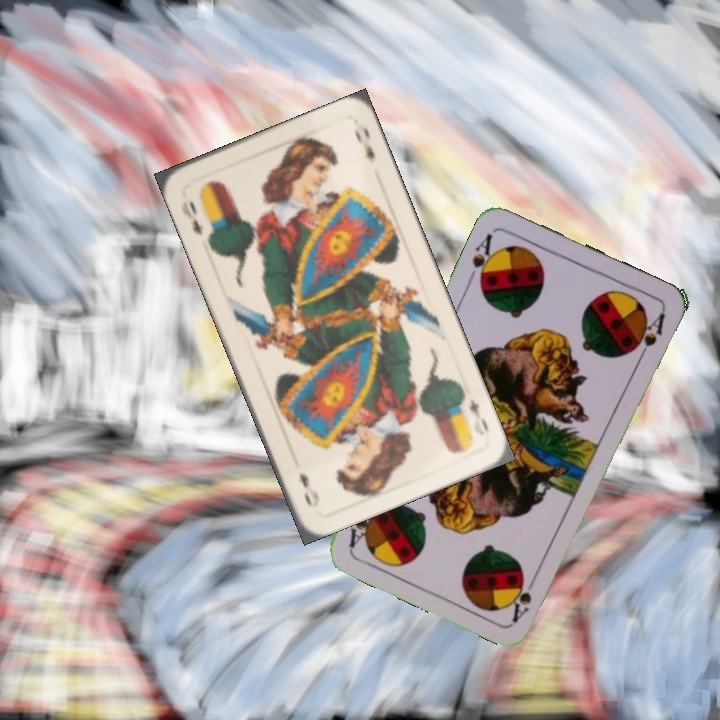EO: (455, 388, 492, 434), (185, 197, 206, 239)
SA: (465, 229, 500, 288), (508, 568, 541, 625)
